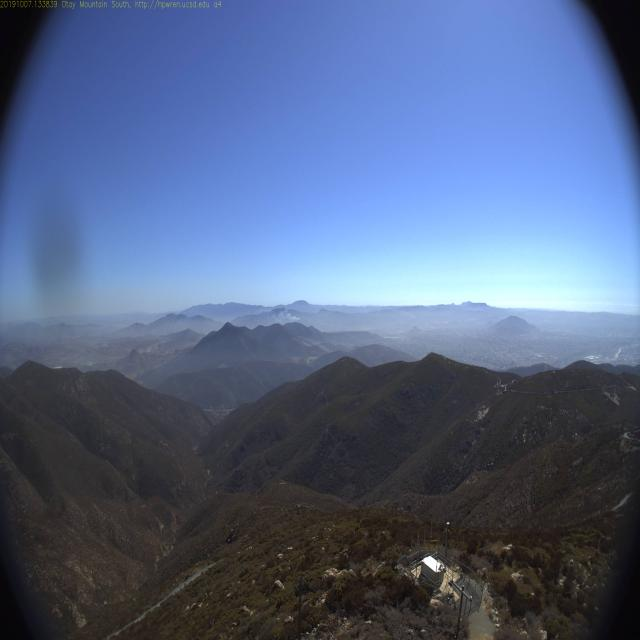smoke: (250, 307, 304, 324)
